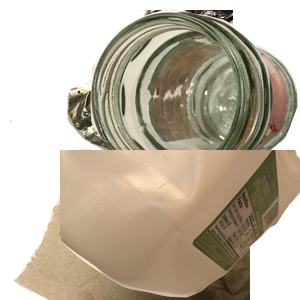glass: (90, 10, 300, 184)
metal: (60, 10, 300, 190)
plastic: (60, 150, 300, 300)
trash: (10, 120, 250, 300)
